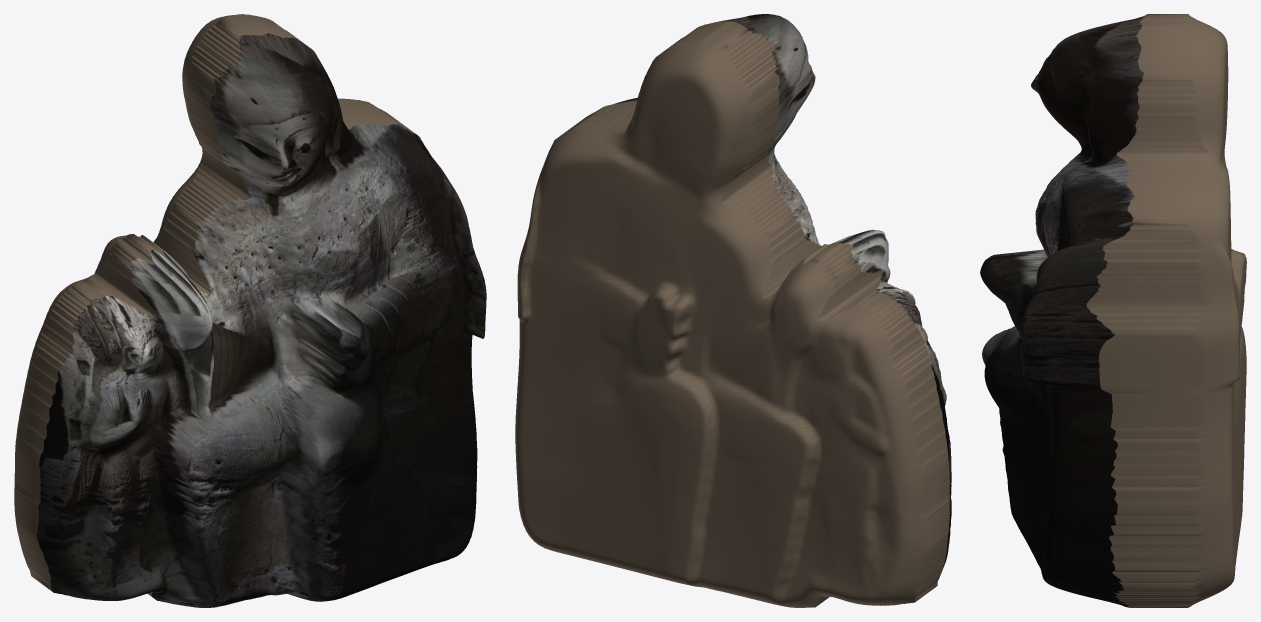
3 renders of one model, left to right at view 1: azimuth 30°, elevation 25°; view 2: azimuth 150°, elevation 25°; view 3: azimuth 270°, elevation 25°, orthographic. The views are drawn at different scales.
Visible parts, largest first — view 1: 大小之间; view 2: 大小之间; view 3: 大小之间.
Part boxes in pixels (x1=…): 大小之间: x1=14, y1=14, x2=486, y2=607; 大小之间: x1=515, y1=14, x2=951, y2=607; 大小之间: x1=980, y1=14, x2=1246, y2=607.
Size of the model in its own units: 1.82 by 2.32 by 1.1.
2 materials, 1 textured.
